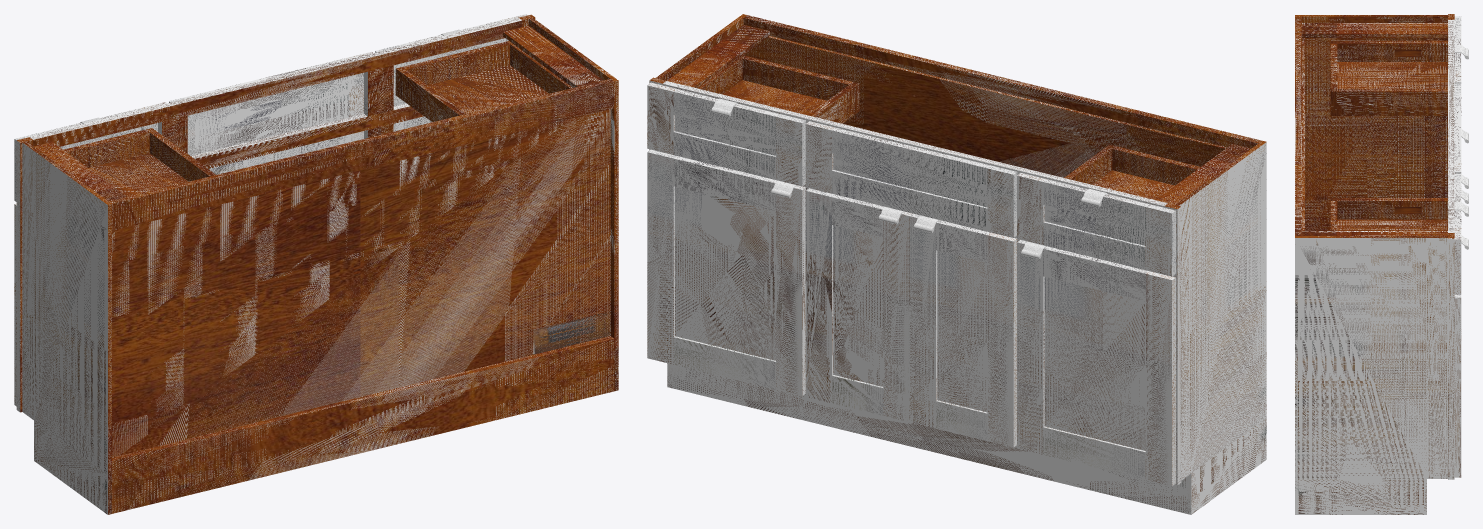
The picture shows the model from 3 angles, left to right: view 1: azimuth 30°, elevation 25°; view 2: azimuth 150°, elevation 25°; view 3: azimuth 270°, elevation 25°; orthographic projection. The views are drawn at different scales.
Visible parts, largest first — view 1: mesh4_mesh4-geometry, mesh13_mesh13-geometry, mesh7_mesh7-geometry, mesh3_mesh3-geometry, mesh5_mesh5-geometry, mesh23_mesh23-geometry, mesh20_mesh20-geometry, mesh21_mesh21-geometry, mesh6_mesh6-geometry, mesh8_mesh8-geometry, mesh10_mesh10-geometry, mesh25_mesh25-geometry (+10 smaller); view 2: mesh43_mesh43-geometry, mesh37_mesh37-geometry, mesh4_mesh4-geometry, mesh7_mesh7-geometry, mesh14_mesh14-geometry, mesh40_mesh40-geometry, mesh35_mesh35-geometry, mesh33_mesh33-geometry, mesh39_mesh39-geometry, mesh25_mesh25-geometry, mesh27_mesh27-geometry, mesh3_mesh3-geometry (+17 smaller); view 3: mesh10_mesh10-geometry, mesh7_mesh7-geometry, mesh20_mesh20-geometry, mesh9_mesh9-geometry, mesh11_mesh11-geometry, mesh23_mesh23-geometry, mesh16_mesh16-geometry, mesh6_mesh6-geometry, mesh2_mesh2-geometry, mesh3_mesh3-geometry, mesh5_mesh5-geometry, mesh35_mesh35-geometry (+8 smaller).
Part boxes in pixels (x1,y1,x2,y2): mesh4_mesh4-geometry: (112, 109, 610, 457); mesh13_mesh13-geometry: (112, 336, 614, 513); mesh7_mesh7-geometry: (34, 150, 111, 474); mesh3_mesh3-geometry: (109, 79, 614, 230); mesh5_mesh5-geometry: (29, 18, 522, 168); mesh23_mesh23-geometry: (88, 65, 548, 196); mesh20_mesh20-geometry: (146, 41, 572, 181); mesh21_mesh21-geometry: (63, 41, 509, 167); mesh6_mesh6-geometry: (22, 141, 37, 419); mesh8_mesh8-geometry: (34, 421, 111, 514); mesh10_mesh10-geometry: (540, 26, 618, 350); mesh25_mesh25-geometry: (40, 20, 504, 149); mesh43_mesh43-geometry: (937, 250, 1145, 450); mesh37_mesh37-geometry: (675, 186, 883, 386); mesh4_mesh4-geometry: (744, 36, 1226, 177); mesh7_mesh7-geometry: (1187, 141, 1266, 472); mesh14_mesh14-geometry: (671, 364, 1186, 513); mesh40_mesh40-geometry: (987, 232, 1175, 486); mesh35_mesh35-geometry: (647, 149, 834, 403); mesh33_mesh33-geometry: (776, 185, 912, 422); mesh39_mesh39-geometry: (909, 213, 1044, 454); mesh25_mesh25-geometry: (673, 89, 1148, 229); mesh27_mesh27-geometry: (673, 131, 1145, 270); mesh3_mesh3-geometry: (743, 15, 1261, 148); mesh10_mesh10-geometry: (1295, 236, 1426, 478); mesh7_mesh7-geometry: (1295, 15, 1426, 230); mesh20_mesh20-geometry: (1330, 40, 1447, 219); mesh9_mesh9-geometry: (1427, 236, 1447, 478); mesh11_mesh11-geometry: (1295, 479, 1426, 514); mesh23_mesh23-geometry: (1337, 62, 1447, 230); mesh16_mesh16-geometry: (1301, 23, 1447, 37); mesh6_mesh6-geometry: (1427, 15, 1447, 197); mesh2_mesh2-geometry: (1448, 14, 1454, 479); mesh3_mesh3-geometry: (1295, 16, 1301, 235); mesh5_mesh5-geometry: (1448, 19, 1454, 232); mesh35_mesh35-geometry: (1454, 294, 1461, 477).
Size of the model in its own units: 0.8341 by 0.4796 by 0.2726.
